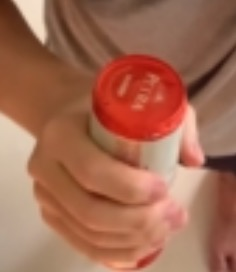petra: (83, 56, 192, 144)
